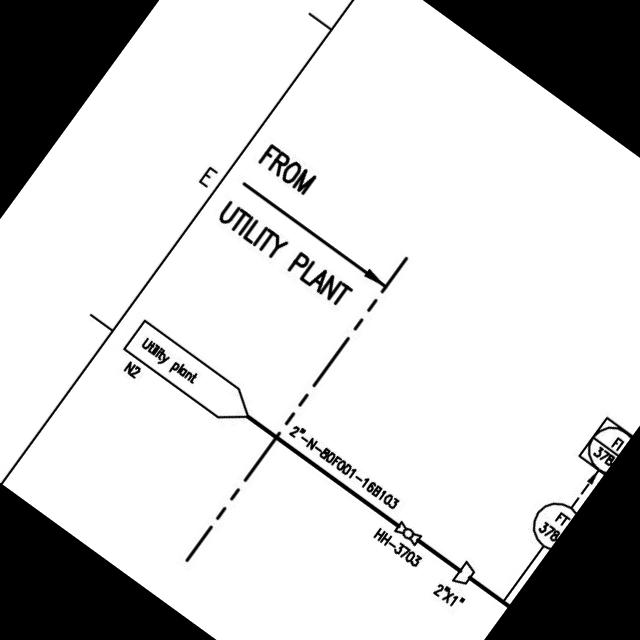BV2: (386, 514, 426, 550)
SP: (444, 554, 480, 594)
